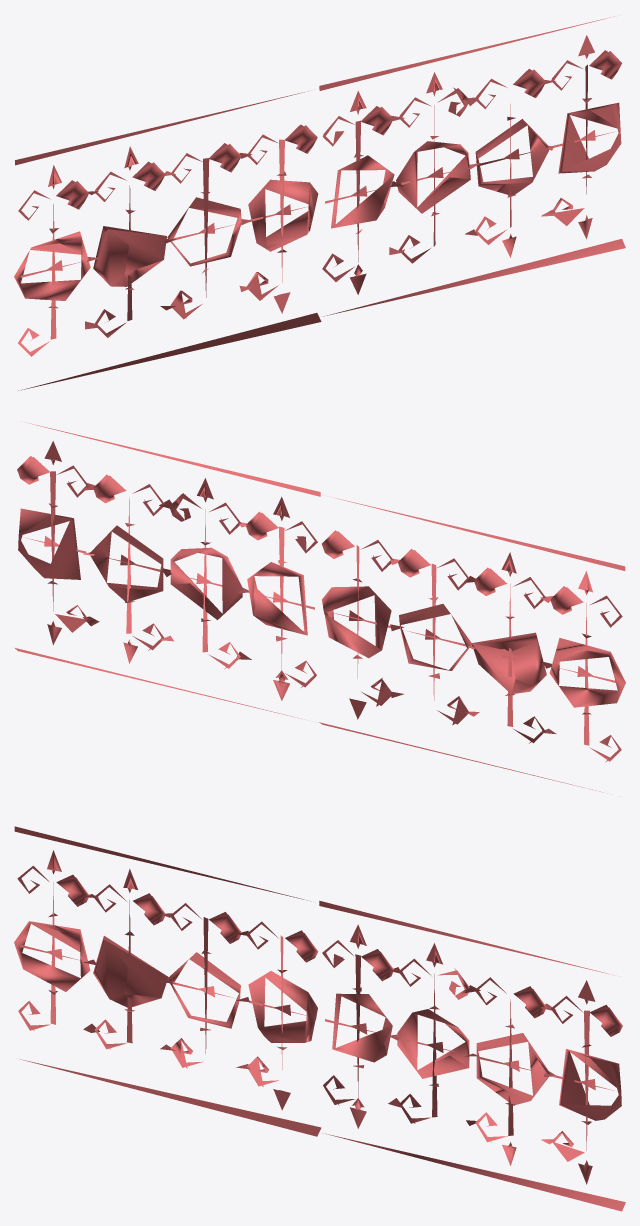
Rendered from metal_fence_test_2.fbx.
3 renders of one model, top to bottom at view 1: azimuth 30°, elevation 25°; view 2: azimuth 150°, elevation 25°; view 3: azimuth 330°, elevation 25°, orthographic.
Visible parts, largest first — view 1: metal_fence_001; view 2: metal_fence_001; view 3: metal_fence_001.
Part boxes in pixels (<box>): metal_fence_001: <box>14,16,625,390</box>; metal_fence_001: <box>14,422,625,792</box>; metal_fence_001: <box>14,826,625,1211</box>.
Size of the model in its own units: 290 by 107 by 7.23.
